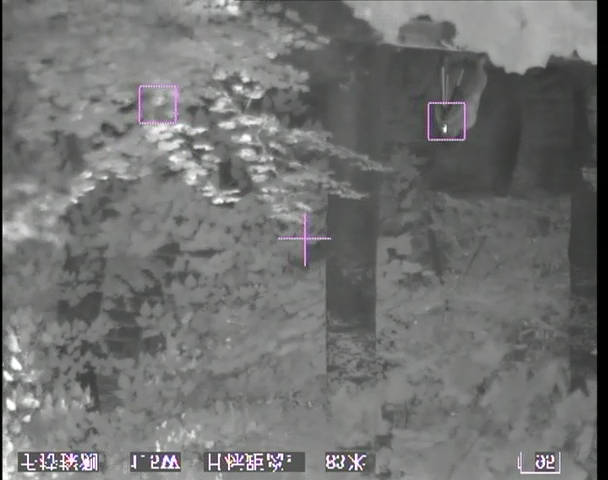my: (441, 123, 451, 135)
